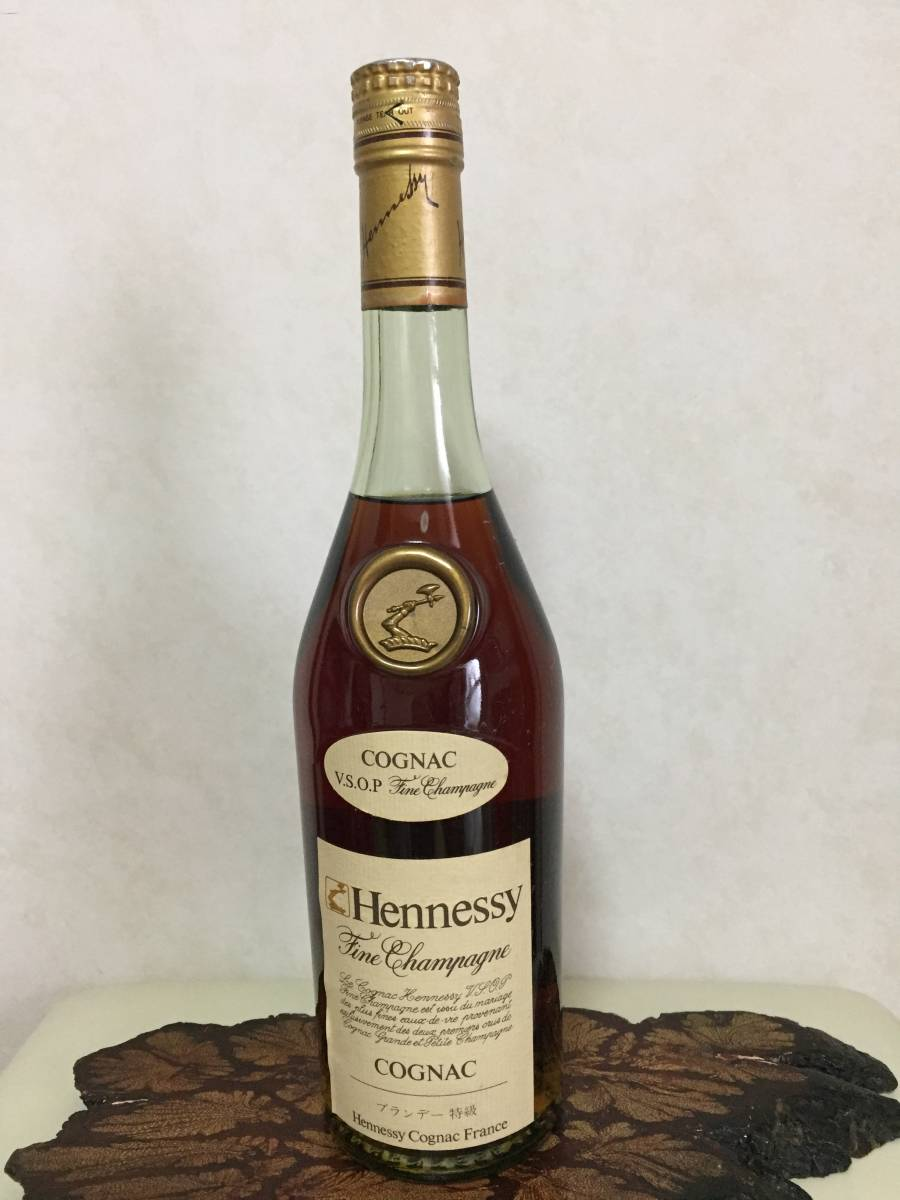Hennessy: (263, 49, 584, 1195)
